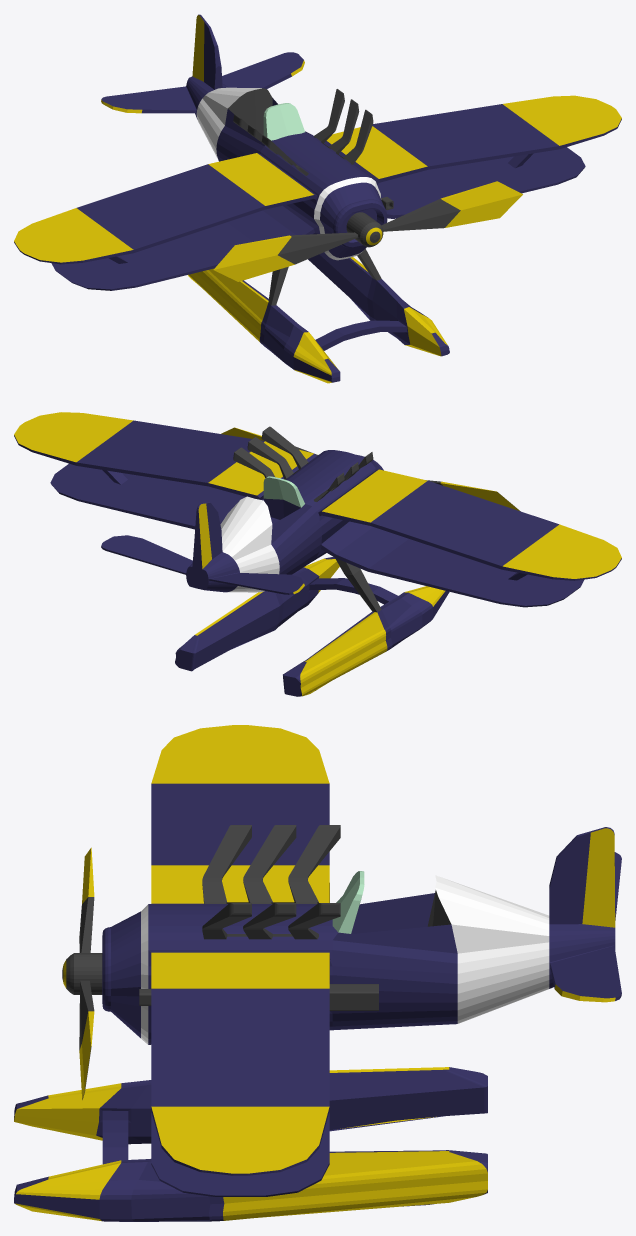
Rendered from hydro1.fbx.
The picture shows the model from 3 angles, top to bottom: view 1: azimuth 30°, elevation 25°; view 2: azimuth 150°, elevation 25°; view 3: azimuth 270°, elevation 25°; orthographic projection. The views are drawn at different scales.
Parts seen in each view (by area): view 1: Corpo, Helice pa; view 2: Corpo, Helice pa; view 3: Corpo, Helice pa, Metralhadora.
Part boxes in pixels (x1,y1,x2,y2): Corpo: (14, 14, 621, 383); Helice pa: (213, 181, 522, 281); Corpo: (14, 412, 621, 696); Helice pa: (221, 427, 520, 511); Corpo: (14, 725, 621, 1221); Helice pa: (62, 847, 102, 1099); Metralhadora: (139, 984, 378, 1010).
Bounding box in the file's own units: 1751 × 644 × 1003.
